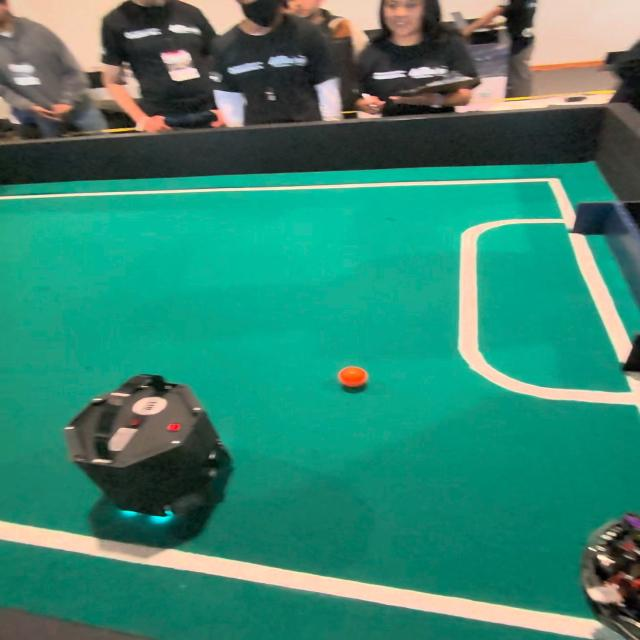Robot: (58, 366, 241, 542), (577, 492, 637, 640)
pelota: (336, 368, 368, 392)
